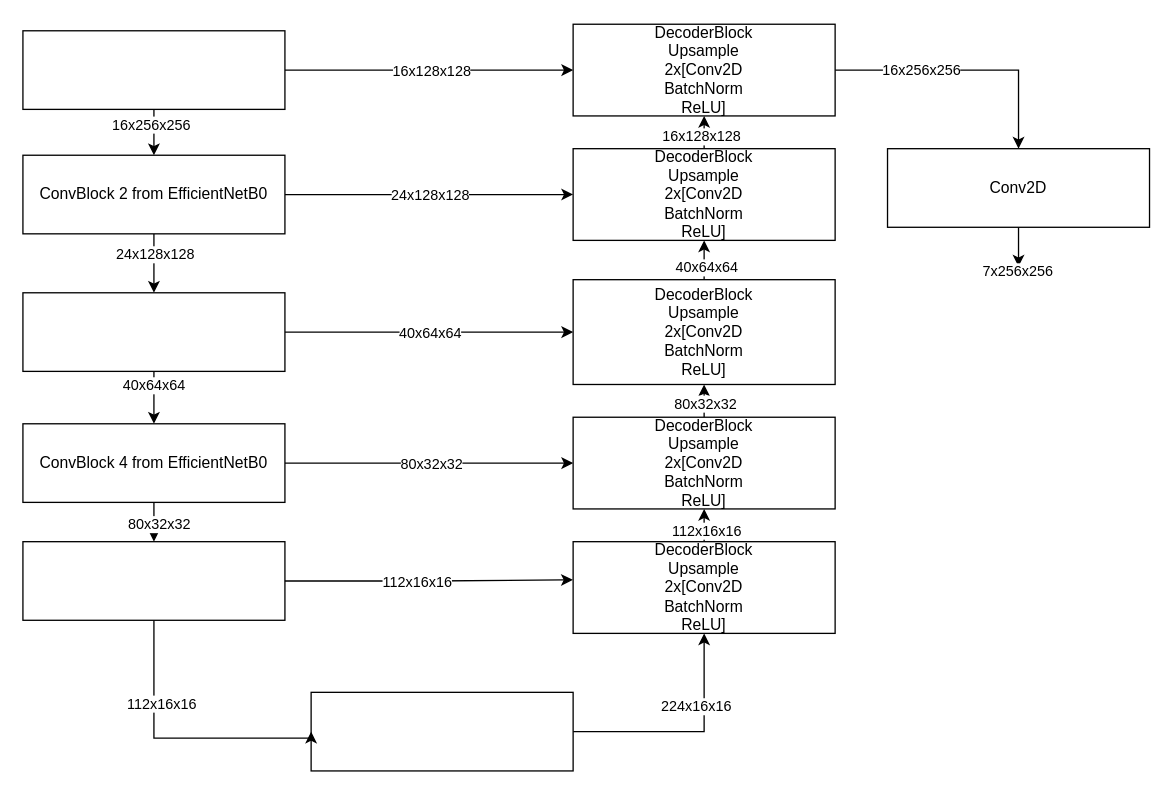
Image size: 1172x794. Some labels were removed from this diagram. The shapes that lost their labels are listed below. From the top down, each one's box as (x1, y1, x2, y2) in pixels, then its label:
(22, 29, 285, 109): Input Conv Layer + ConvBlock 1 from EfficientNetB0
(22, 291, 285, 371): ConvBlock 3 from EfficientNetB0
(22, 540, 285, 620): ConvBlock 5 from EfficientNetB0
(310, 691, 573, 771): 2x[ Conv2D(k=3,s=1,p=1) BatchNorm ReLU]
